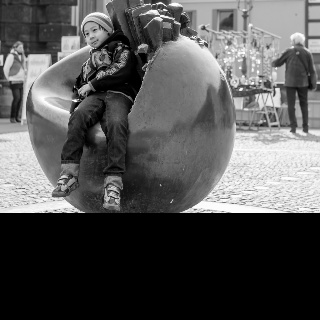without_mask: (83, 21, 109, 48), (16, 43, 23, 53)
